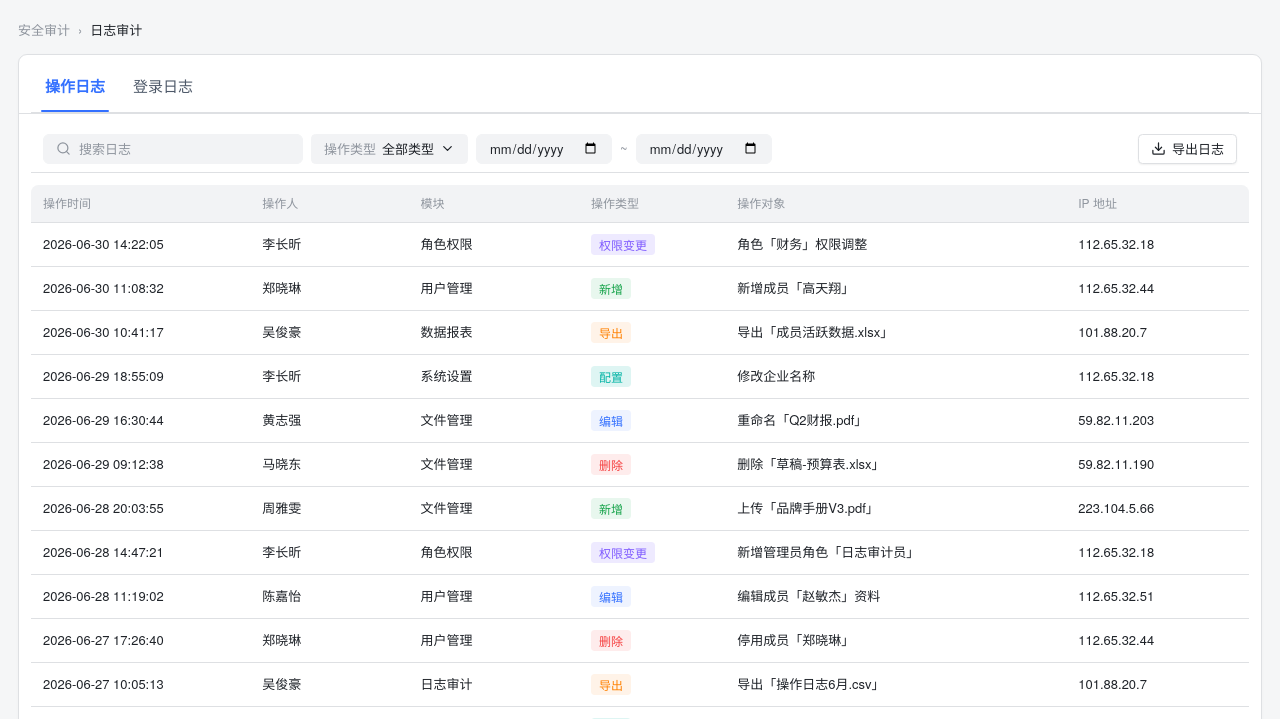
Test: 可切换到登录日志并筛选失败记录
Check: the text "角色「财务」权限调整" is shown, box [725,222,1066,266]
Click the tab "登录日志" at [163, 93], box [129,75,197,112]
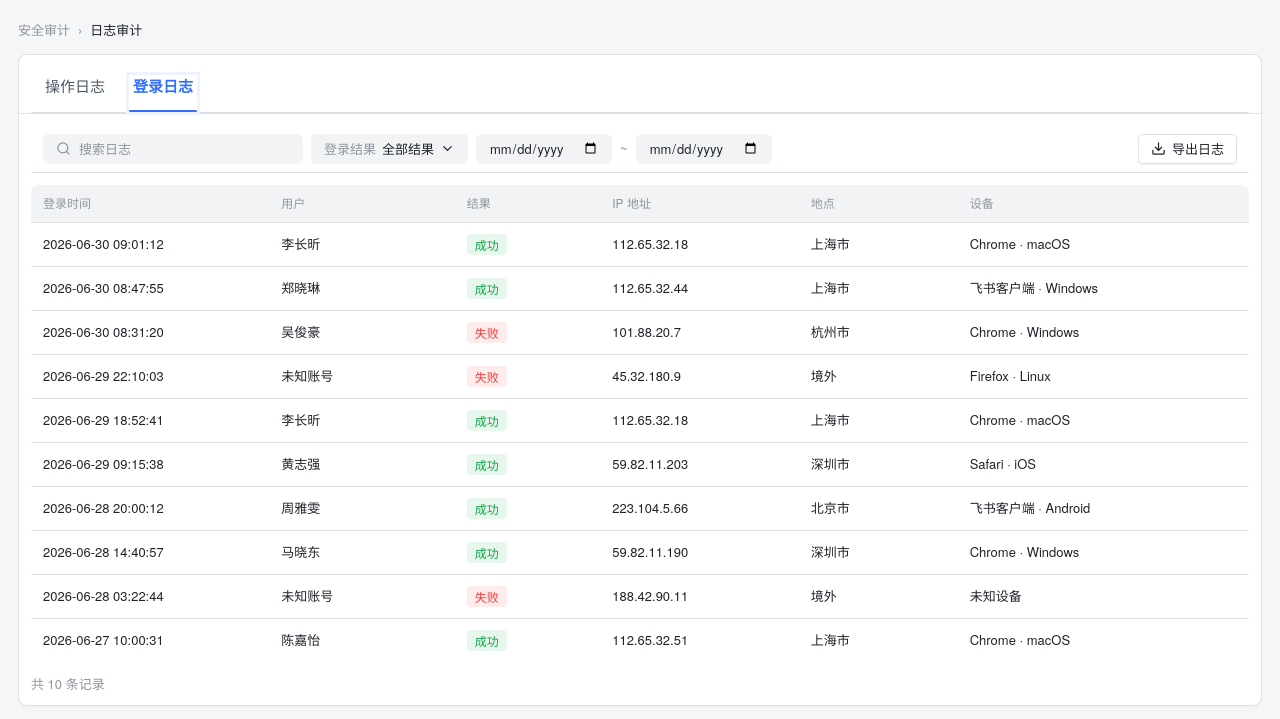
Check: the text "Chrome · macOS" in the row of "2026-06-30 09:01:12" is shown, box [970,234,1070,253]
Click the button "登录结果 全部结果" at [390, 148], box [311,134,468,164]
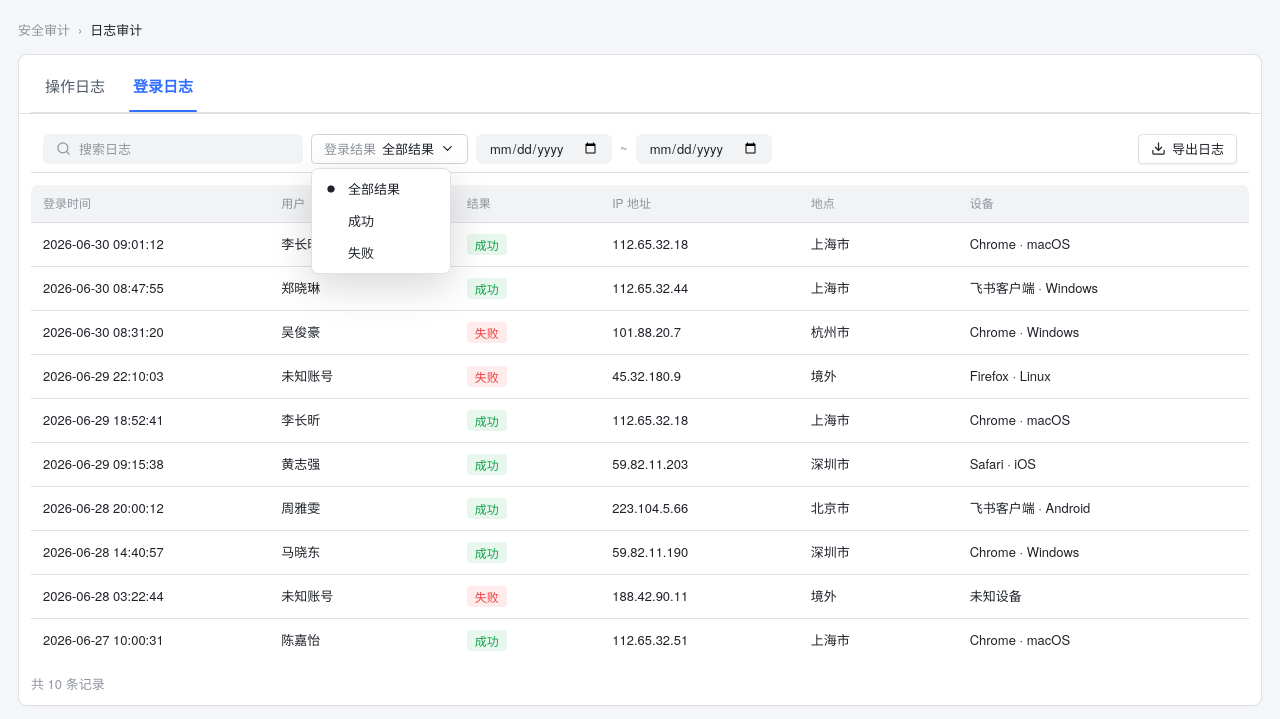
Click the menu item "失败" at [361, 252], box [348,243,374,262]
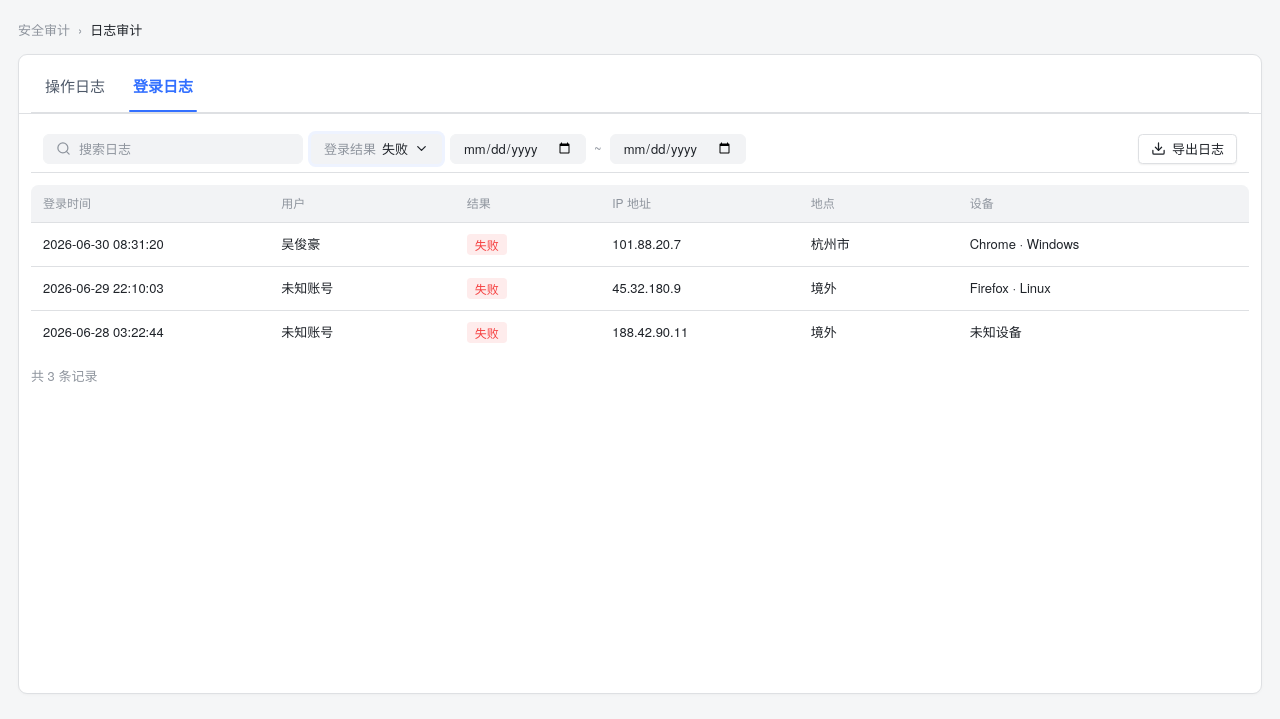
Check: the text "Firefox · Linux" is shown, box [958,266,1249,310]
Check: the text "飞书客户端 · Windows" is gone
